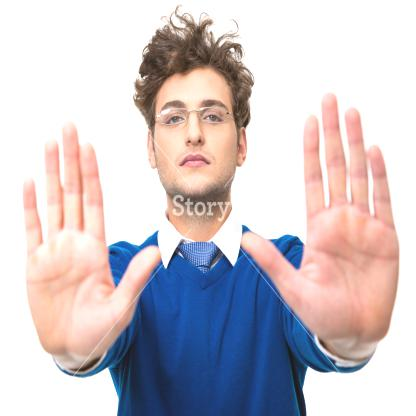Stop: (11, 113, 138, 386), (270, 83, 400, 347)
